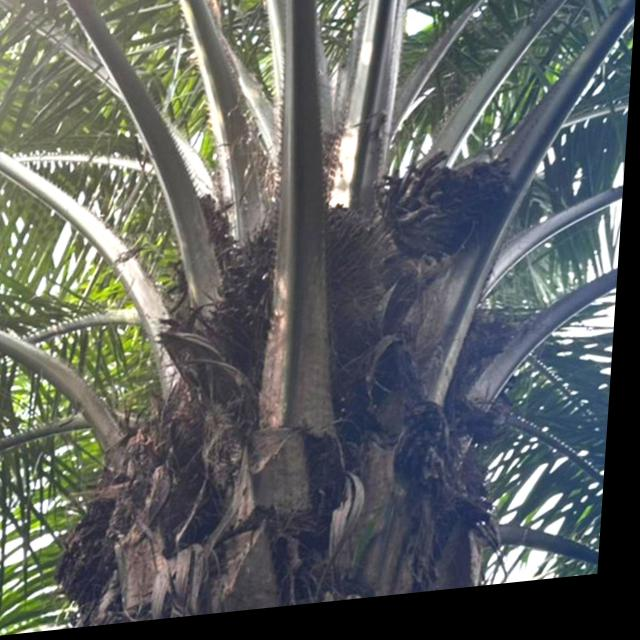almost: (214, 199, 393, 377)
